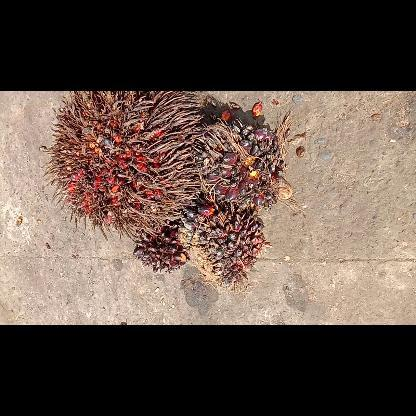TBS abnormal: (197, 118, 295, 216), (181, 200, 271, 294), (132, 219, 192, 275)
Terlalu masak: (42, 92, 206, 238)
